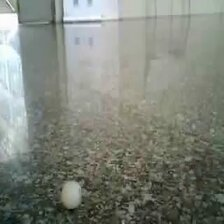w: (59, 179, 84, 210)
